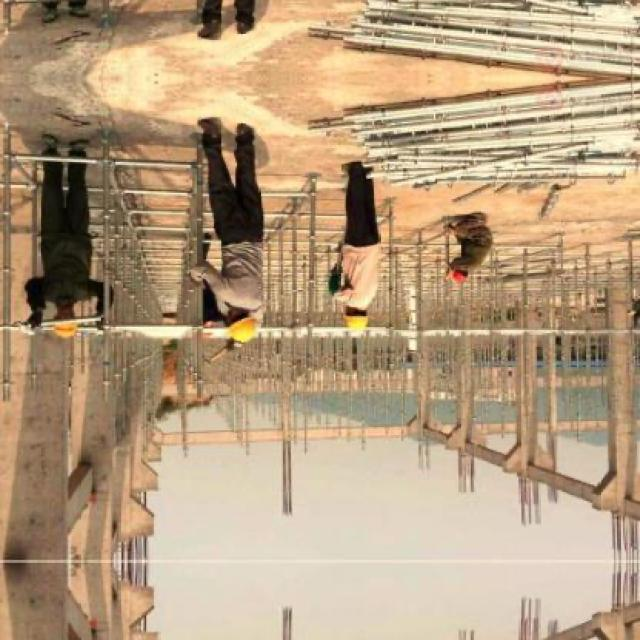con casco: (204, 293, 270, 354), (38, 304, 100, 350), (333, 301, 381, 348)
